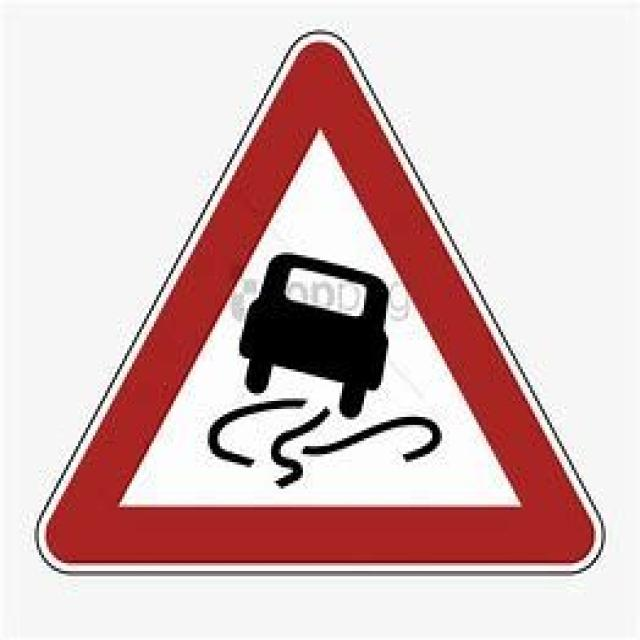SLIPPERY_ROAD: (33, 21, 603, 590)
